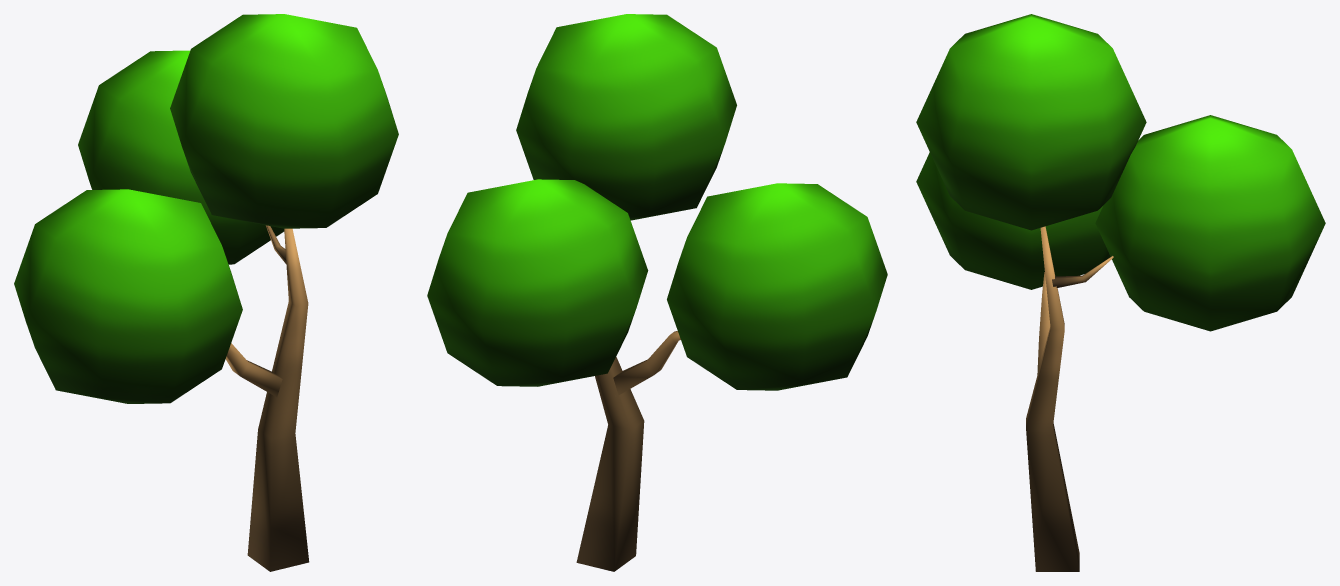
File: tree0.dae
3 views of the same model, side by side, from view 1: azimuth 30°, elevation 25°; view 2: azimuth 150°, elevation 25°; view 3: azimuth 270°, elevation 25° (orthographic). The views are drawn at different scales.
Visible parts, largest first — view 1: tree0; view 2: tree0; view 3: tree0.
Part boxes in pixels (x1,y1,x2,y2): tree0: [14, 14, 398, 571]; tree0: [427, 14, 887, 571]; tree0: [916, 14, 1325, 571].
Size of the model in its own units: 4.38 by 4.42 by 6.44.
Materials: 1 (1 with a texture image).
